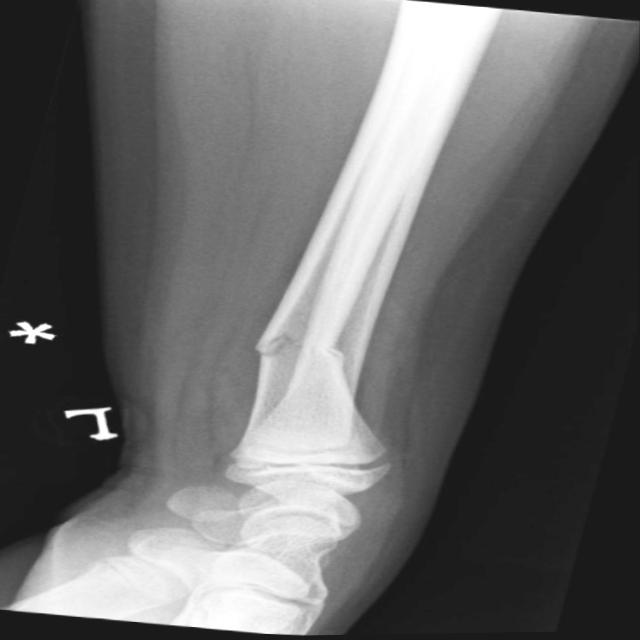Transverse Displaced: (215, 319, 389, 381)
